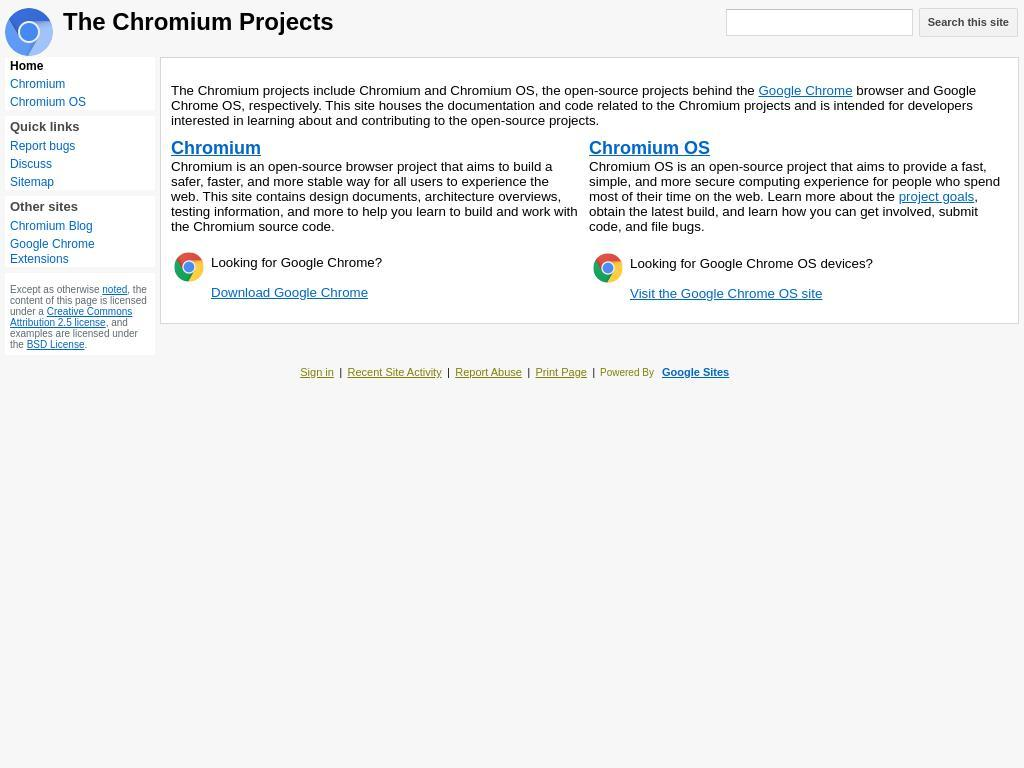button: (10, 237, 155, 267), (10, 77, 155, 92), (10, 95, 155, 110), (10, 139, 155, 154), (10, 157, 155, 172), (10, 175, 155, 190), (10, 219, 155, 234)
field: (725, 9, 913, 36)
heading: (63, 8, 334, 35), (10, 119, 150, 134), (10, 199, 150, 214)
image: (5, 8, 53, 56), (173, 251, 205, 283), (592, 252, 624, 284)
link: (630, 286, 822, 301), (211, 285, 368, 300), (758, 83, 854, 98), (898, 189, 974, 204), (347, 366, 442, 378), (455, 366, 523, 378), (662, 366, 729, 378), (535, 366, 587, 378), (300, 366, 335, 378)
text: (171, 83, 976, 128), (171, 159, 578, 234), (589, 159, 1000, 204), (589, 189, 978, 234), (171, 83, 758, 98), (10, 284, 147, 317), (10, 317, 137, 350), (630, 256, 873, 271), (918, 8, 1018, 37), (10, 306, 132, 328), (211, 255, 382, 270), (589, 138, 710, 158), (5, 59, 155, 74), (171, 138, 261, 158), (10, 284, 102, 295), (26, 339, 85, 350), (600, 367, 655, 378), (102, 284, 128, 295)
